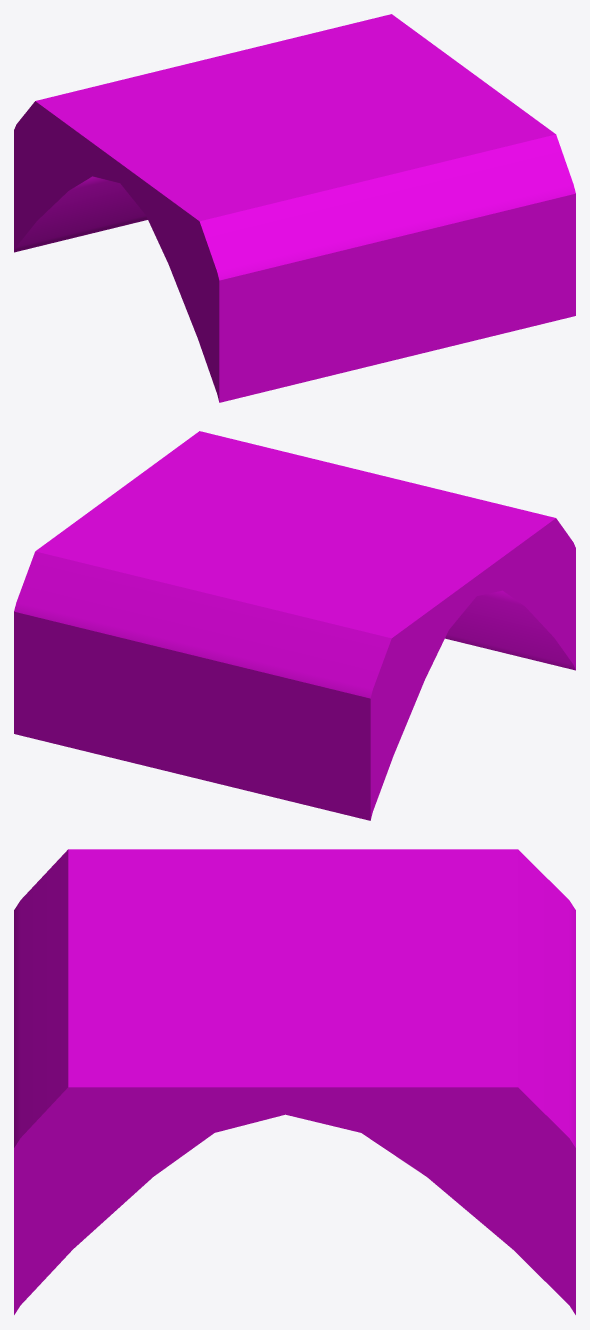
Rendered from SetoCeilingArch_Modular2.fbx.
The picture shows the model from 3 angles, top to bottom: view 1: azimuth 30°, elevation 25°; view 2: azimuth 150°, elevation 25°; view 3: azimuth 270°, elevation 25°; orthographic projection. The views are drawn at different scales.
Visible parts, largest first — view 1: CeilingArch_Modular2; view 2: CeilingArch_Modular2; view 3: CeilingArch_Modular2.
Boxes of the visible parts, box(x1,y1,x2,y2) form: CeilingArch_Modular2: box(14, 14, 575, 402); CeilingArch_Modular2: box(14, 431, 575, 820); CeilingArch_Modular2: box(14, 849, 575, 1314).
Bounding box in the file's own units: 239 × 107 × 239.
